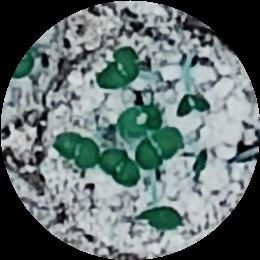Basil: (138, 125, 181, 168), (97, 46, 138, 90), (101, 148, 140, 189), (122, 103, 164, 139), (56, 132, 93, 167), (143, 204, 178, 232), (177, 92, 206, 117)
